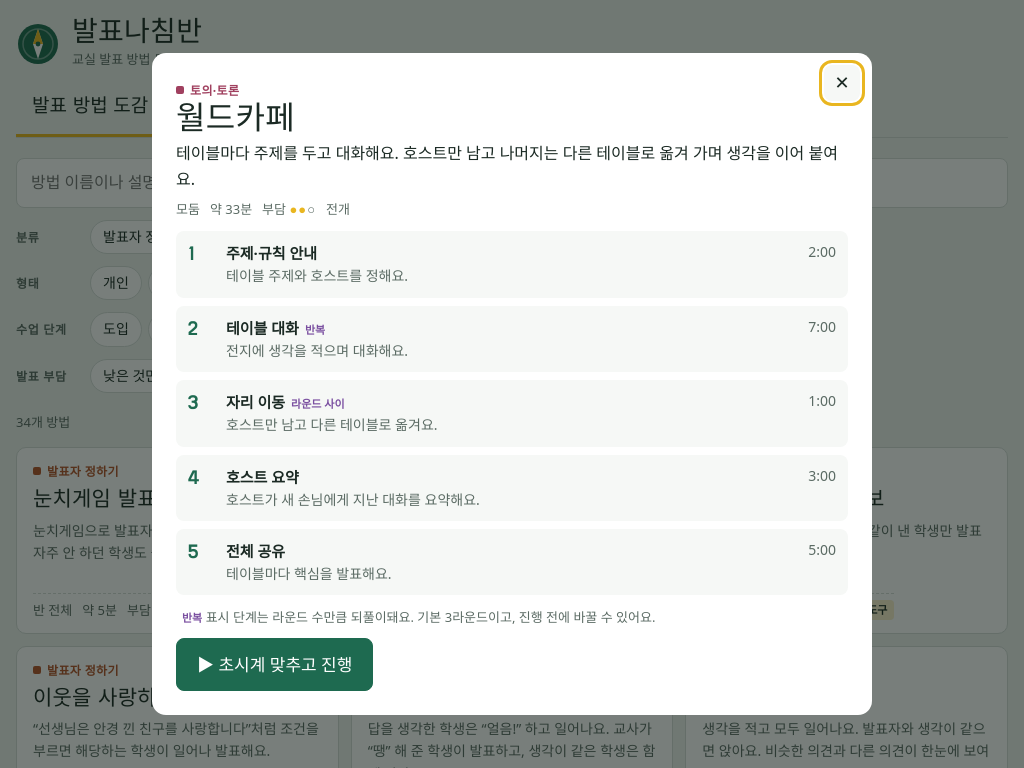
초시계 설정 › 잘못 적은 시간은 알려 주고 원래 값으로 돌린다
The image size is (1024, 768).
Click the button "▶ 초시계 맞추고 진행" at [275, 665], box left=176, top=638, right=373, bottom=691
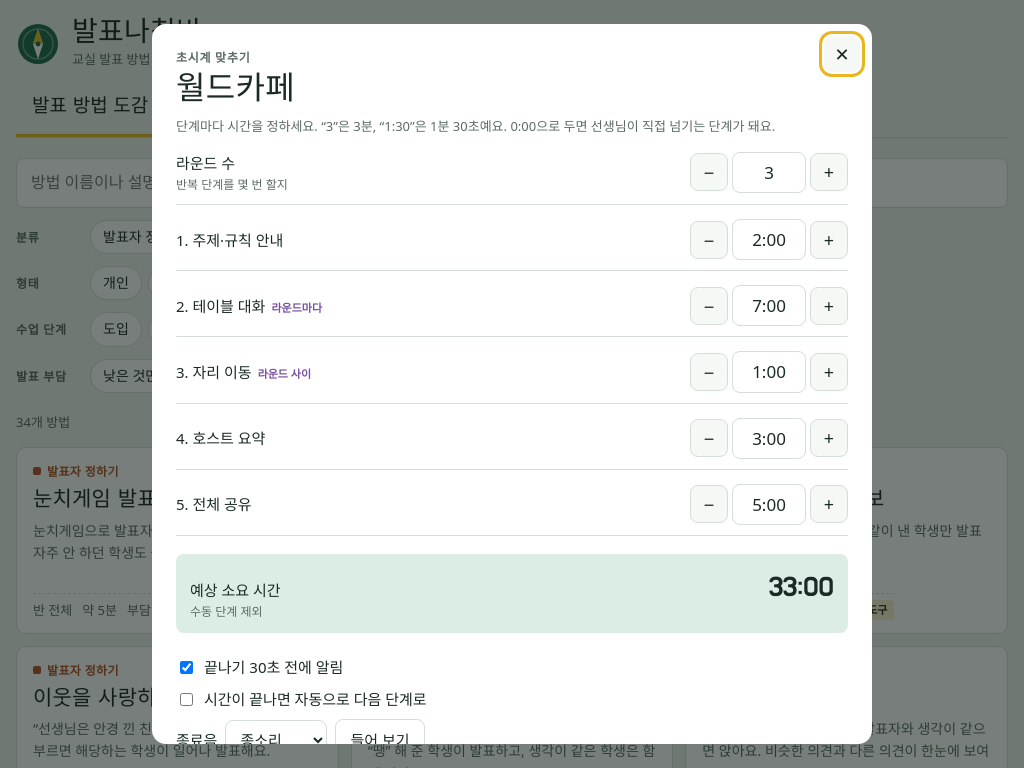
Replace the text in the field named "자리 이동 시간" with "한시간" at [769, 372], box left=732, top=351, right=806, bottom=392
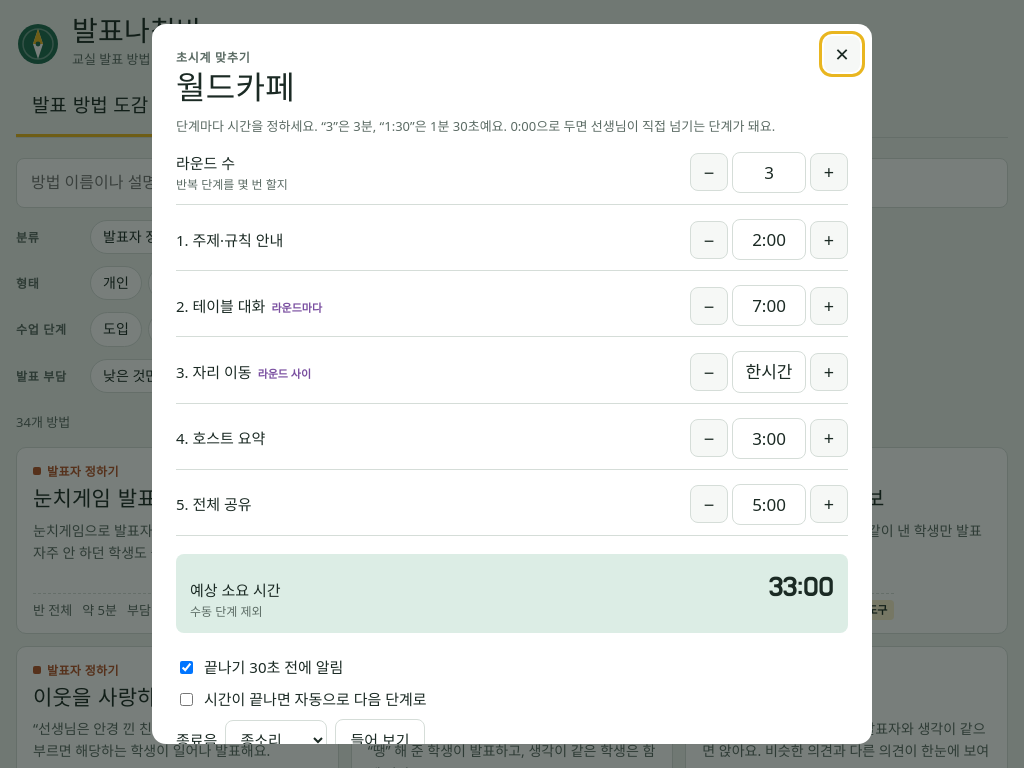
Leave the field named "자리 이동 시간", box left=732, top=351, right=806, bottom=392
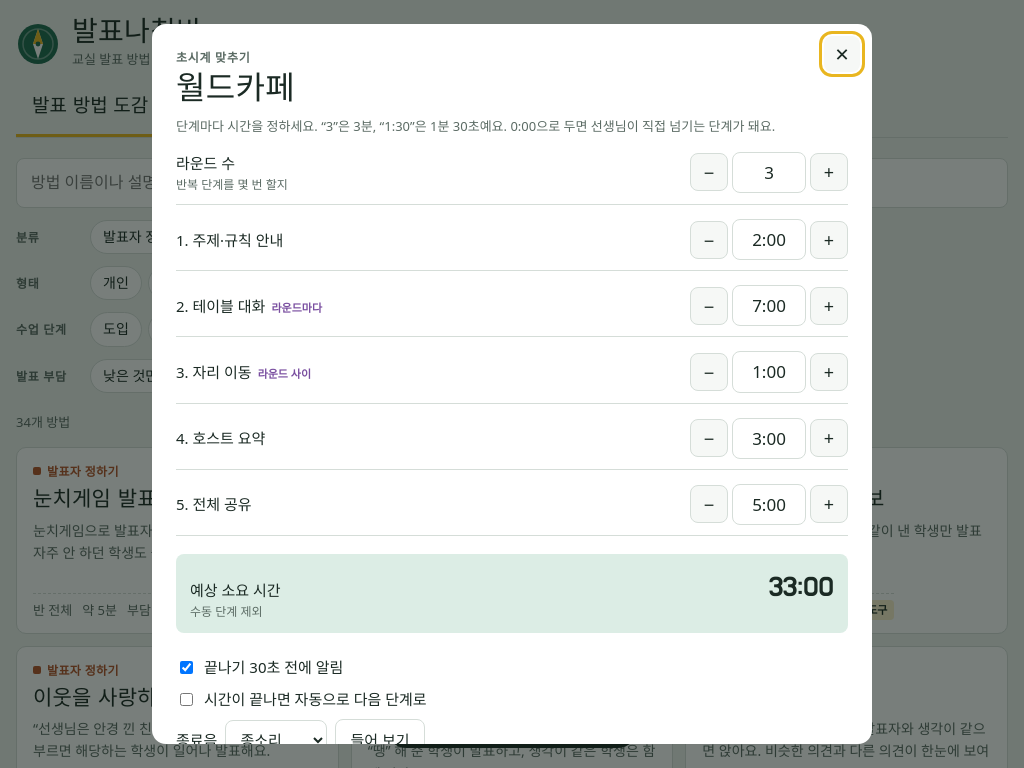
Check: the text "시간은 “3”이나 “1:30”처럼 적어 주세요" is shown, box left=404, top=716, right=628, bottom=738
Check: the field named "자리 이동 시간" holds "1:00", box left=732, top=351, right=806, bottom=392
